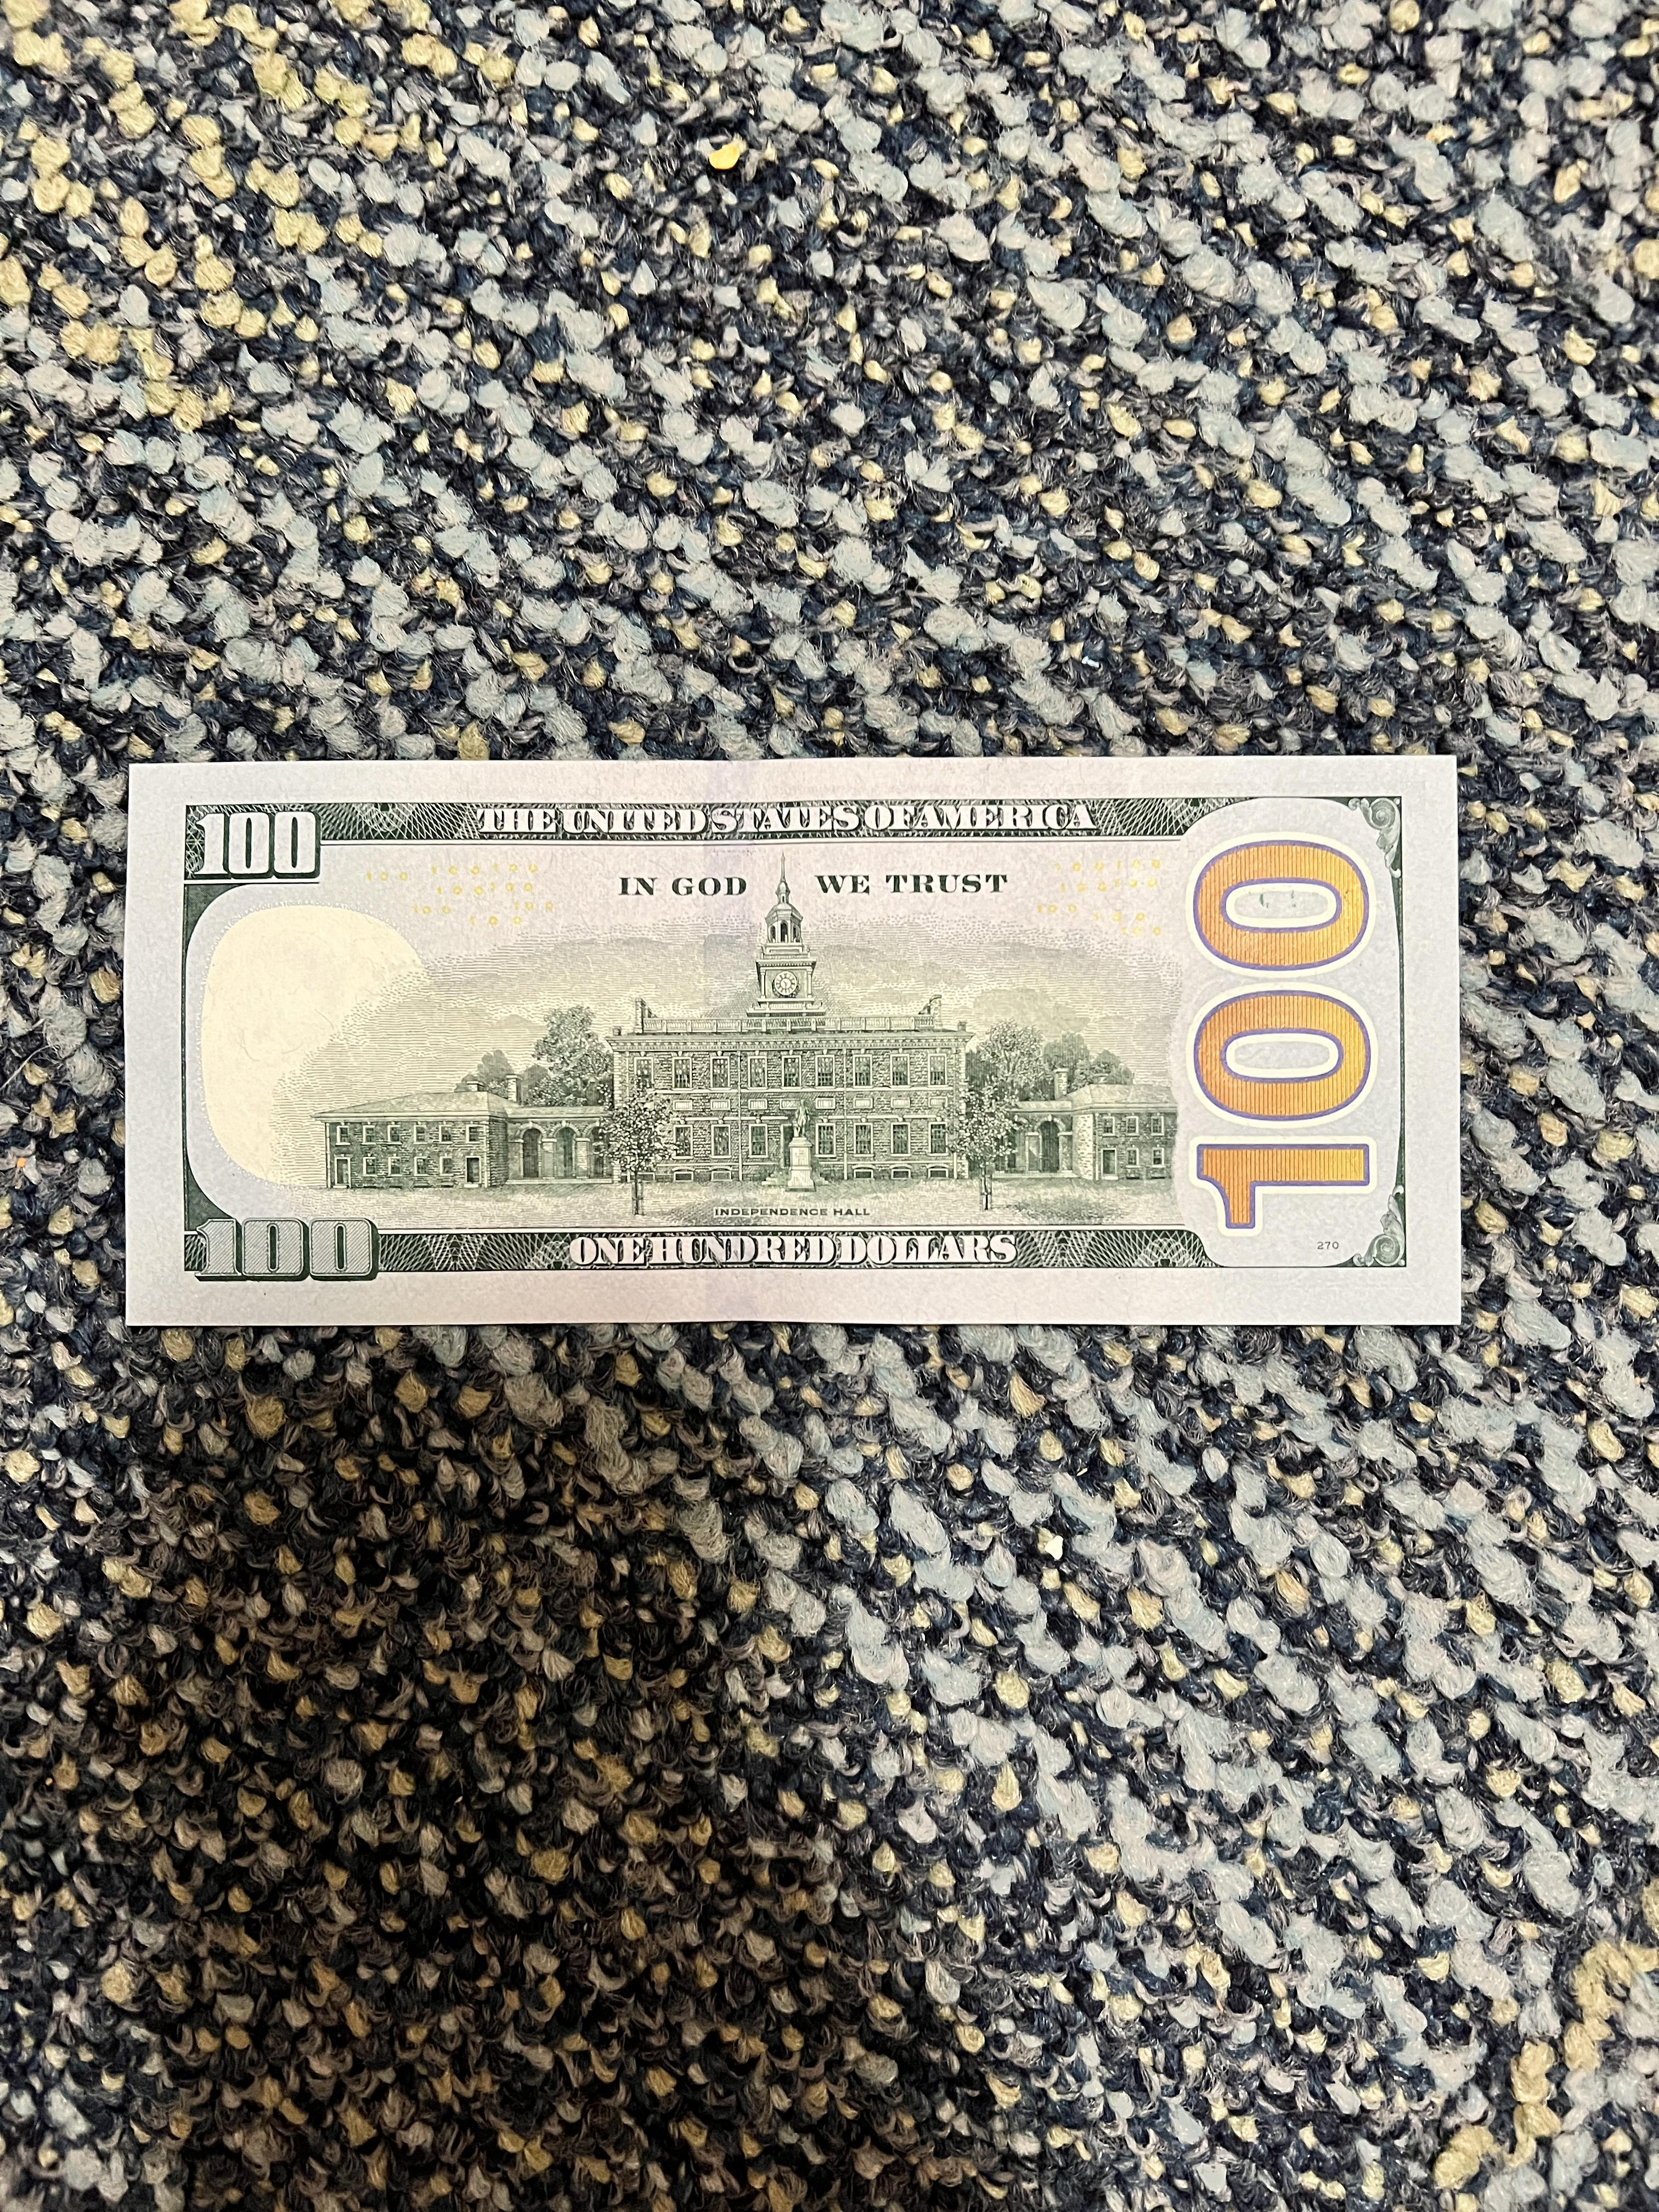HundredBill: (113, 772, 1473, 1329)
